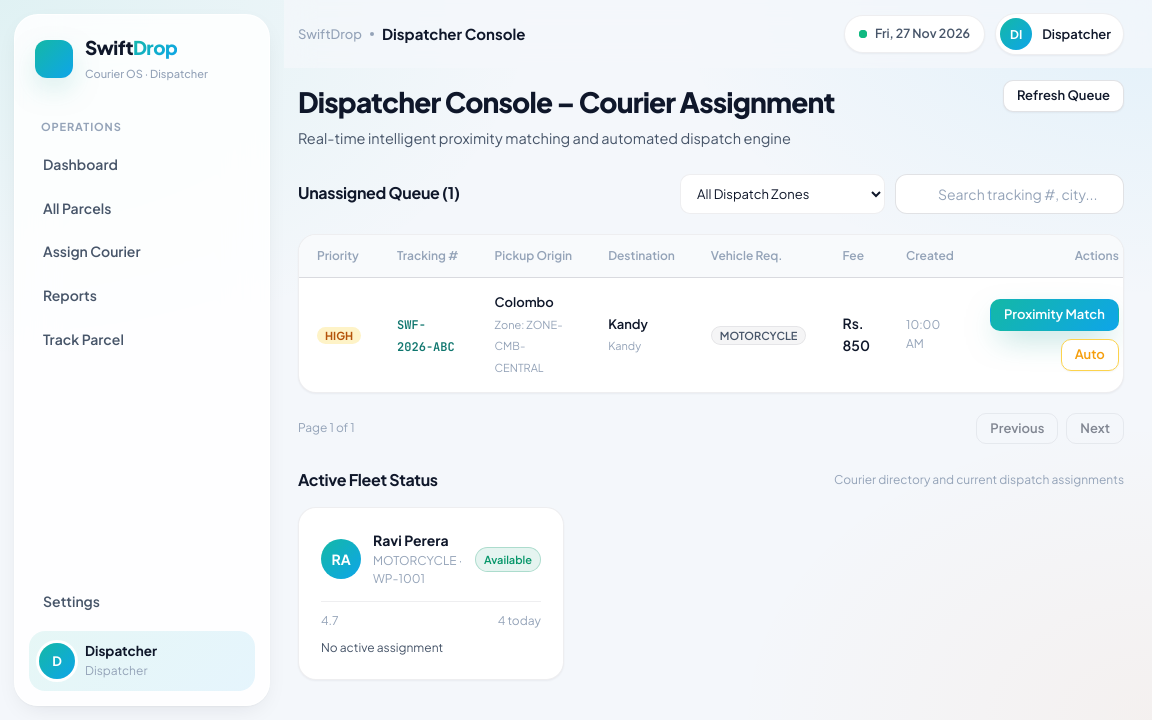
Test: AssignCourier fleet › keeps the job visible when assignment conflicts
This screenshot has width=1152, height=720.
Click the button "Proximity Match" at (1054, 315), box [990, 300, 1119, 331]
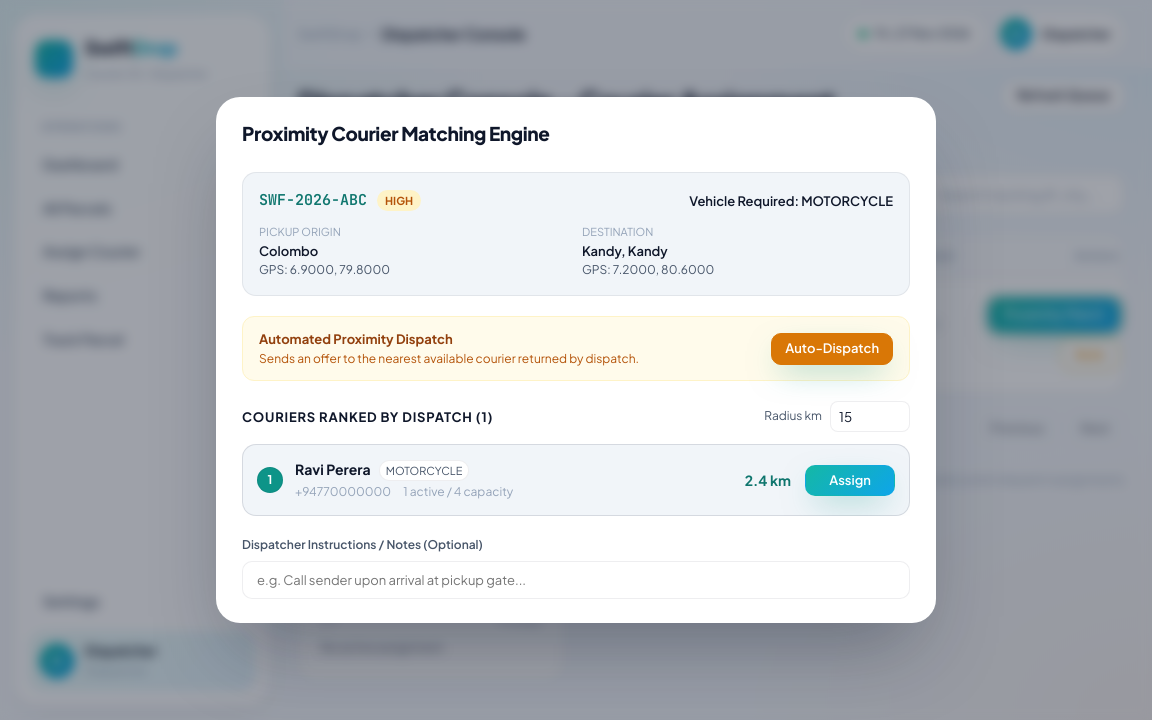
Click the button "Assign" at (850, 480), box [805, 464, 895, 496]
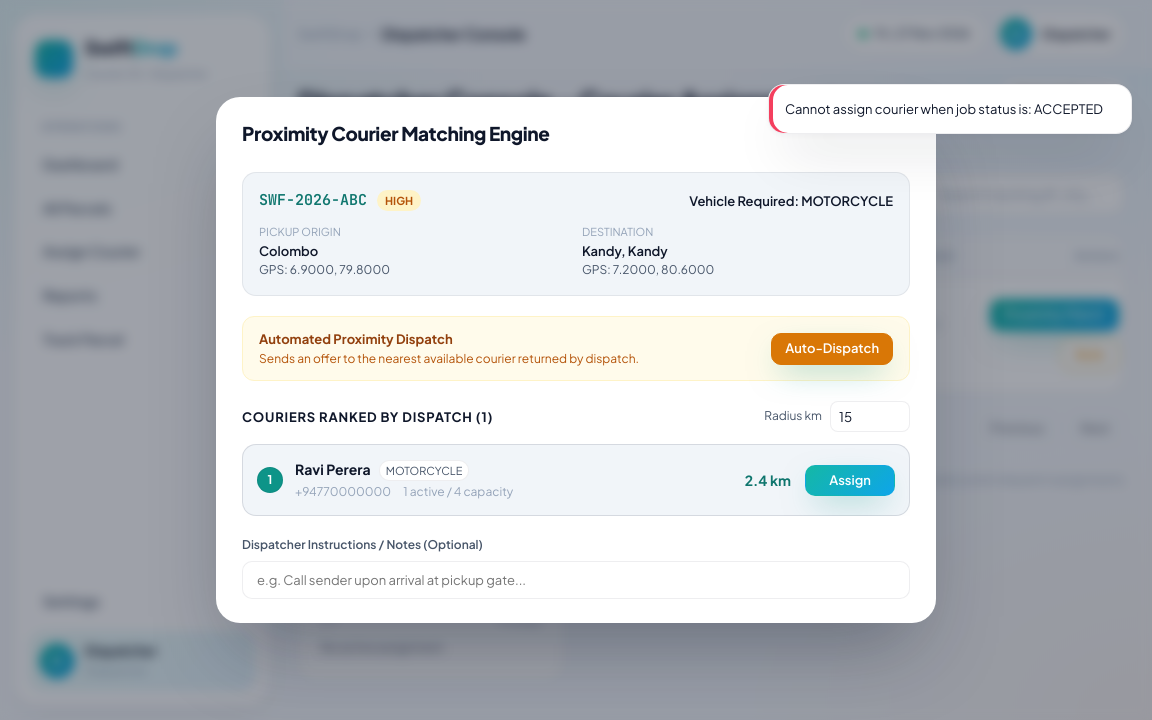
Check: the text "SWF-2026-ABC" next to "Zone:" is shown, box [397, 317, 455, 355]
Check: the text "Cannot assign courier when job status is: ACCEPTED" is shown, box [785, 99, 1103, 119]
